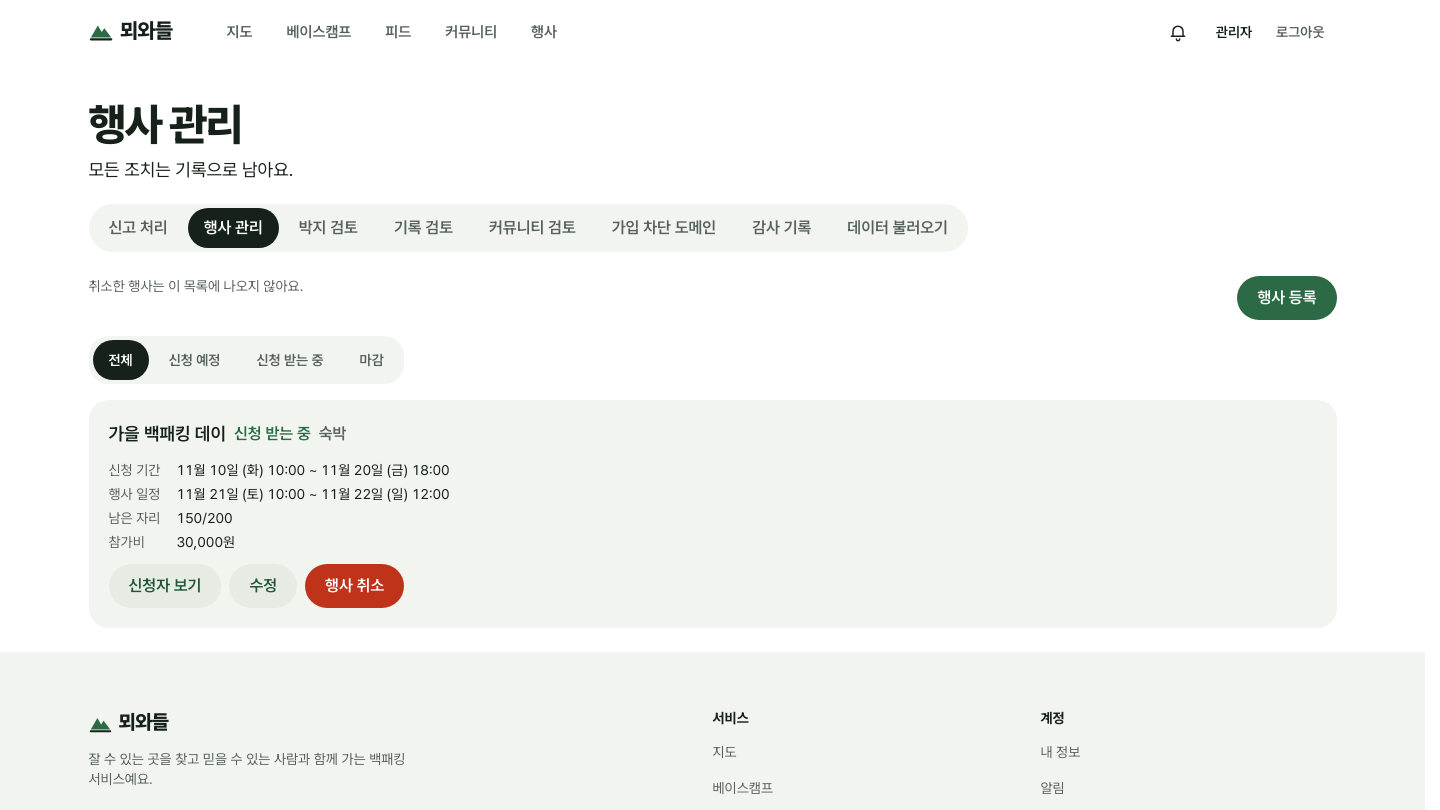
Test: 관리자 행사 관리 목록 › 행사 취소 › 닫기 버튼을 눌러도 취소 요청은 나가지 않는다
Click the button "행사 취소".
click(355, 586)  # box left=305, top=564, right=404, bottom=608
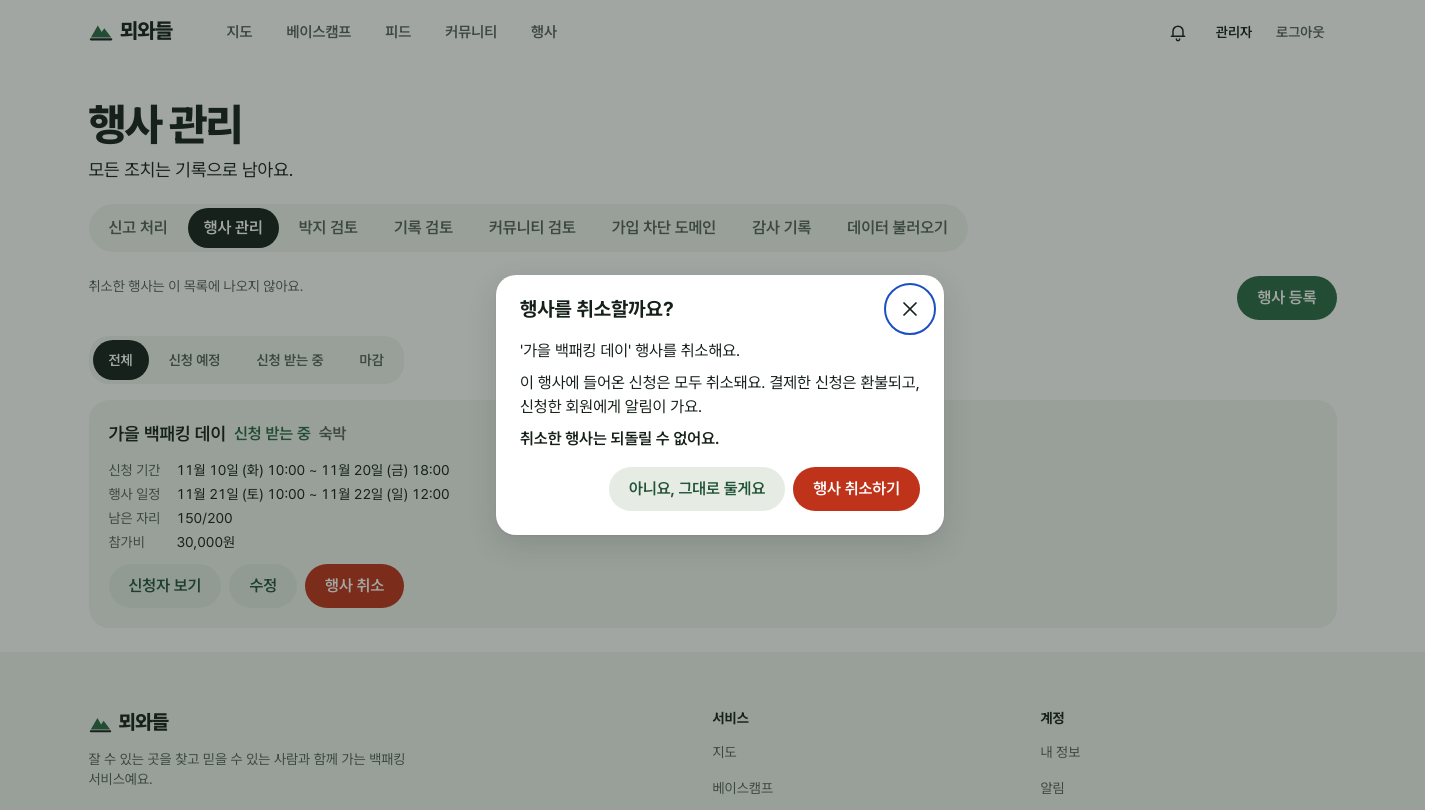
Click the button named "닫기".
click(910, 309)  # box left=888, top=287, right=932, bottom=331
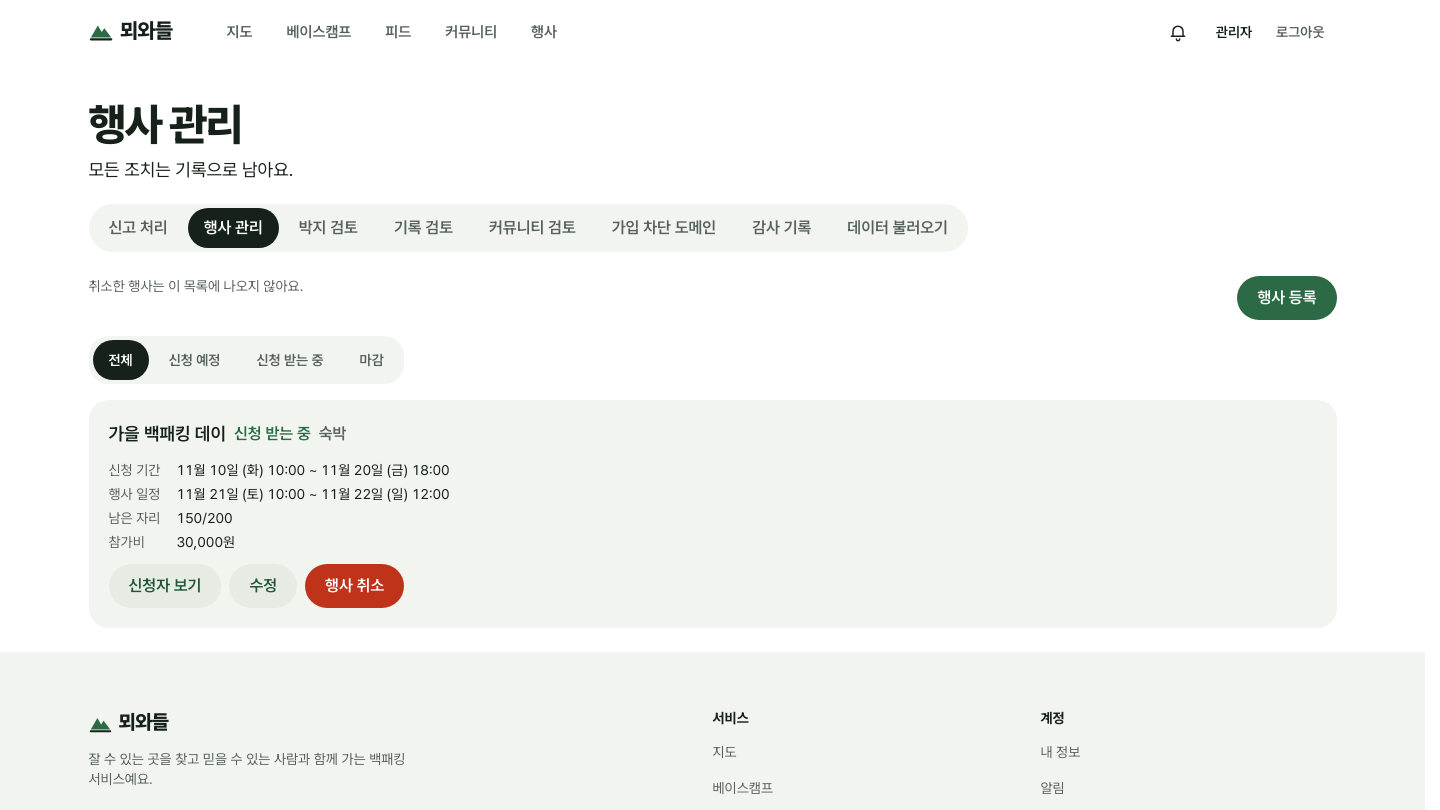
Now the dialog is gone
